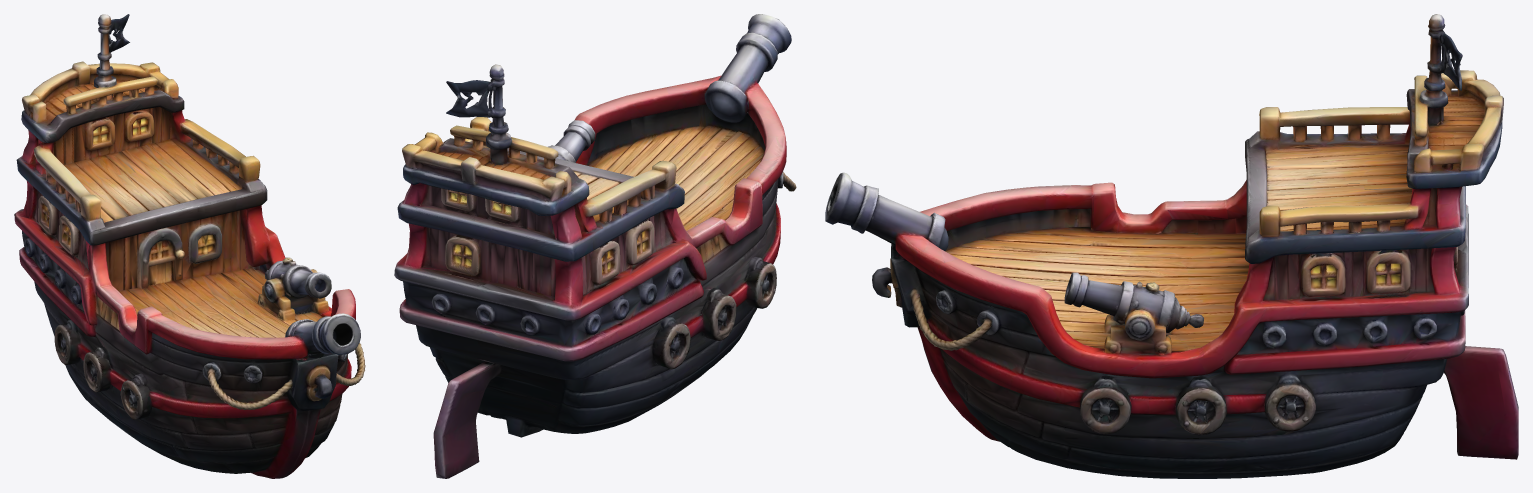
File: dusman_gemi.glb
3 renders of one model, left to right at view 1: azimuth 30°, elevation 25°; view 2: azimuth 150°, elevation 25°; view 3: azimuth 270°, elevation 25°, orthographic. The views are drawn at different scales.
Visible parts, largest first — view 1: tripo_node_702a799c-d22d-4f86-a80b-c1da7a72ba21; view 2: tripo_node_702a799c-d22d-4f86-a80b-c1da7a72ba21; view 3: tripo_node_702a799c-d22d-4f86-a80b-c1da7a72ba21.
Part boxes in pixels (x1,y1,x2,y2): tripo_node_702a799c-d22d-4f86-a80b-c1da7a72ba21: (14,14,365,478); tripo_node_702a799c-d22d-4f86-a80b-c1da7a72ba21: (394,14,796,478); tripo_node_702a799c-d22d-4f86-a80b-c1da7a72ba21: (825,14,1518,478).
Size of the model in its own units: 0.4408 by 0.6872 by 0.9787.
Materials: 1 (1 with a texture image).
